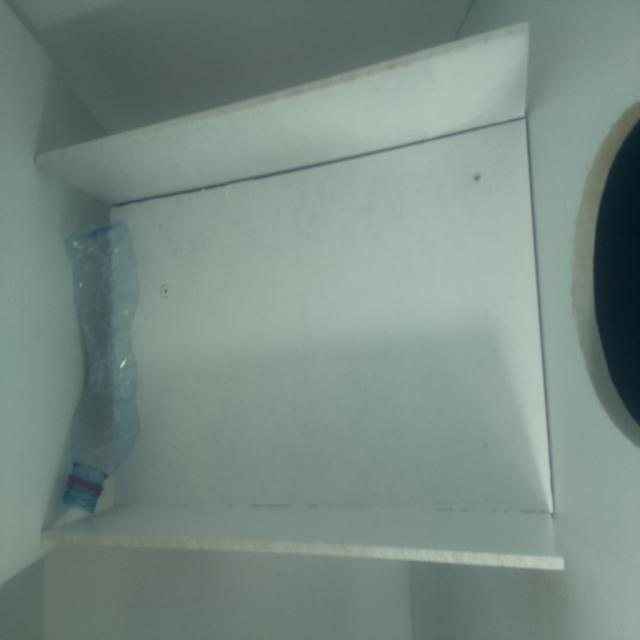bottle: (62, 221, 141, 514)
